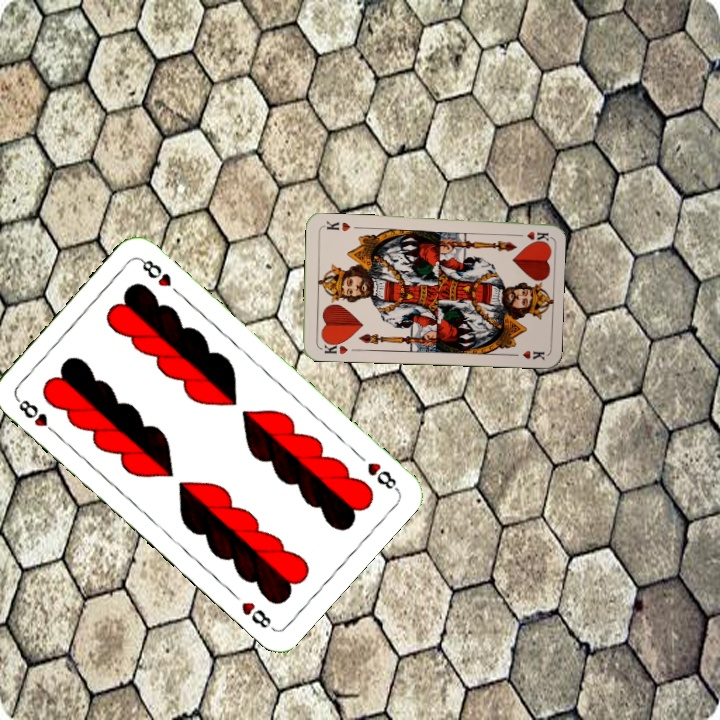H8: (12, 394, 61, 438), (363, 458, 401, 493)
HK: (509, 227, 550, 243), (320, 337, 350, 357)
